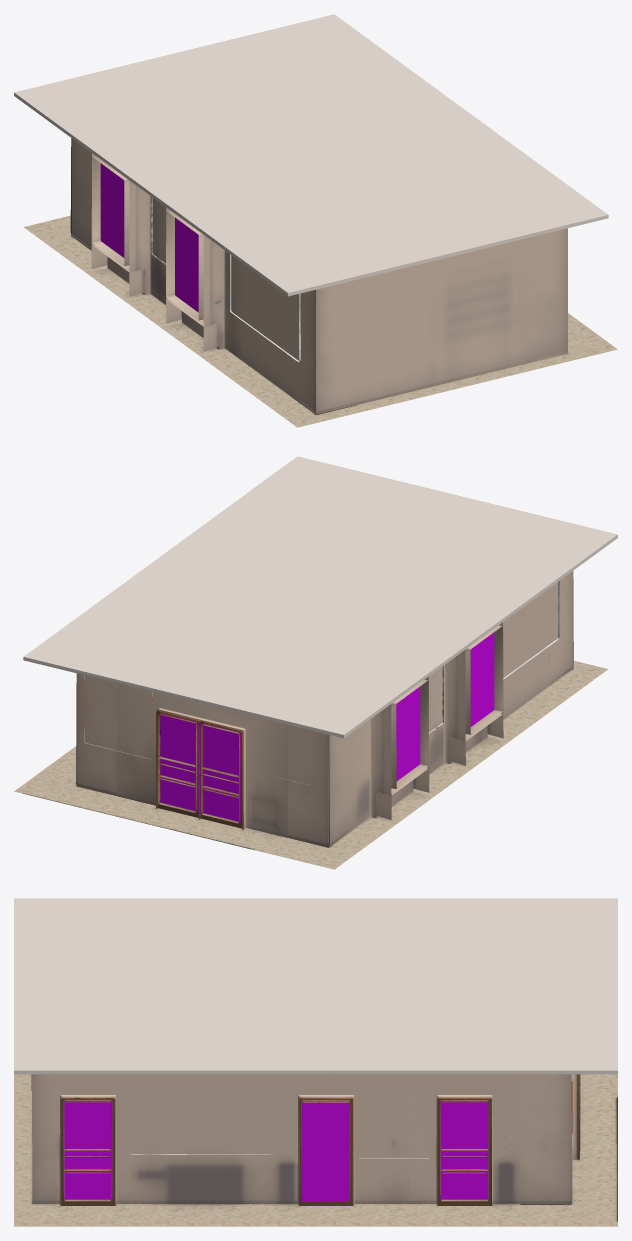
The model's file is sgmb-demo-V3.FBX.
The picture shows the model from 3 angles, top to bottom: view 1: azimuth 30°, elevation 25°; view 2: azimuth 150°, elevation 25°; view 3: azimuth 270°, elevation 25°; orthographic projection. The views are drawn at different scales.
Visible parts, largest first — view 1: part2, part, glass; view 2: part2, part, glass; view 3: part2, part, glass, Object076.
Part boxes in pixels (x1,y1,x2,y2): part2: (14, 14, 608, 362); part: (24, 138, 617, 427); glass: (100, 163, 198, 312); part2: (23, 456, 617, 785); part: (14, 571, 607, 869); glass: (160, 632, 494, 823); part2: (14, 898, 617, 1158); part: (14, 1074, 617, 1226); glass: (64, 1101, 505, 1200); Object076: (302, 1102, 349, 1201).
Bounding box in the file's own units: 99.12 × 39.71 × 143.
